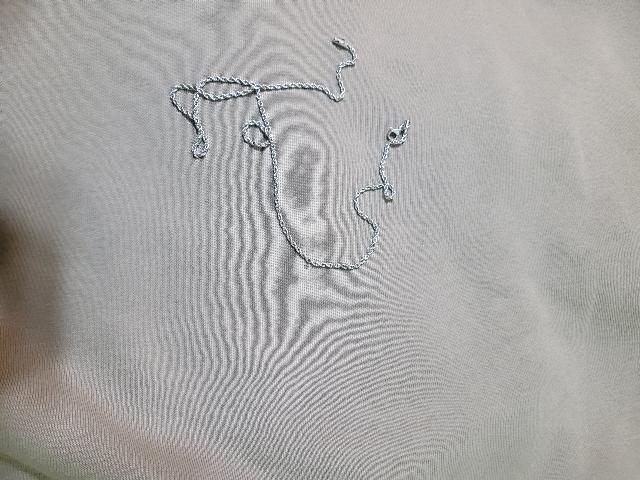Metal: (167, 35, 415, 281)
